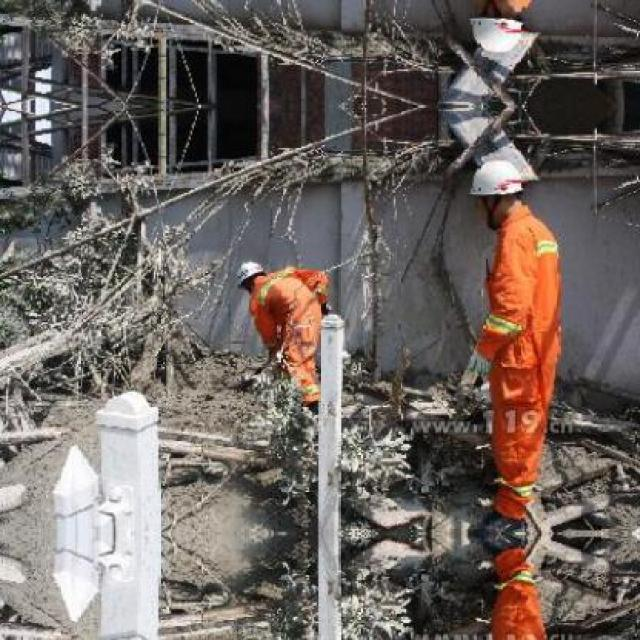helmet: (466, 154, 532, 230), (465, 0, 532, 60), (233, 259, 265, 295)
